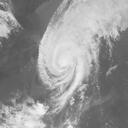cyclone: (40, 34, 90, 89)
